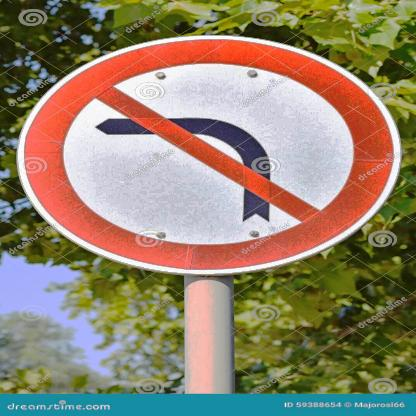No left turn: (20, 34, 410, 280)
